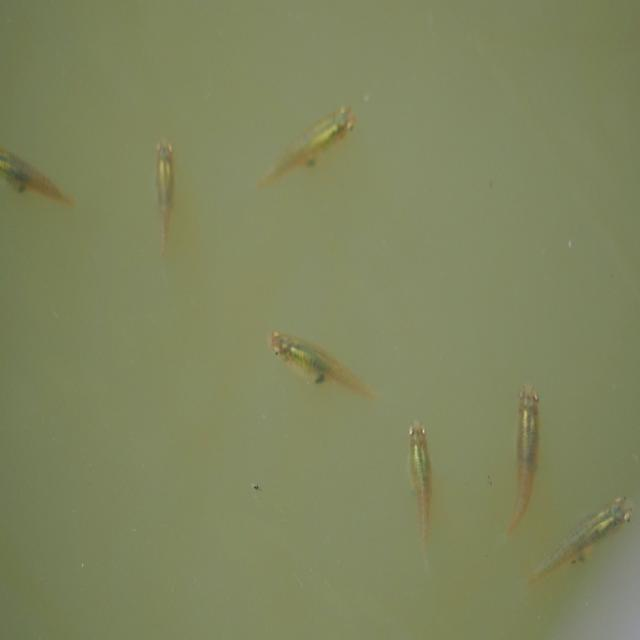Sivrisinek Baligi: (524, 496, 635, 590), (255, 100, 357, 192), (272, 325, 378, 409), (1, 133, 74, 212), (504, 381, 540, 540), (406, 418, 439, 578), (151, 135, 181, 279)
